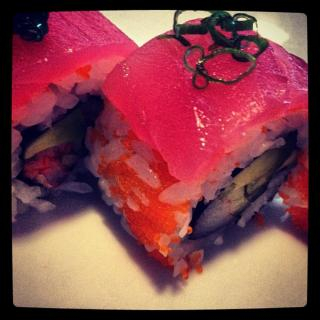Sushi: (85, 41, 313, 270), (9, 10, 139, 221)
